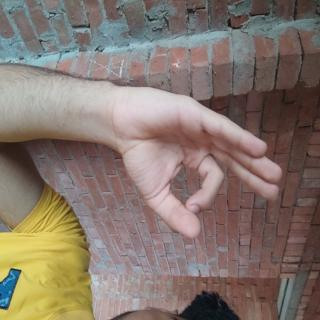Space: (59, 42, 180, 285)
